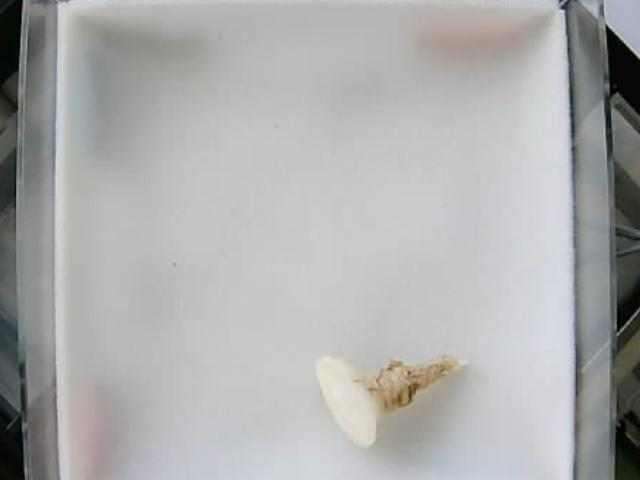Mooli: (317, 354, 467, 451)
